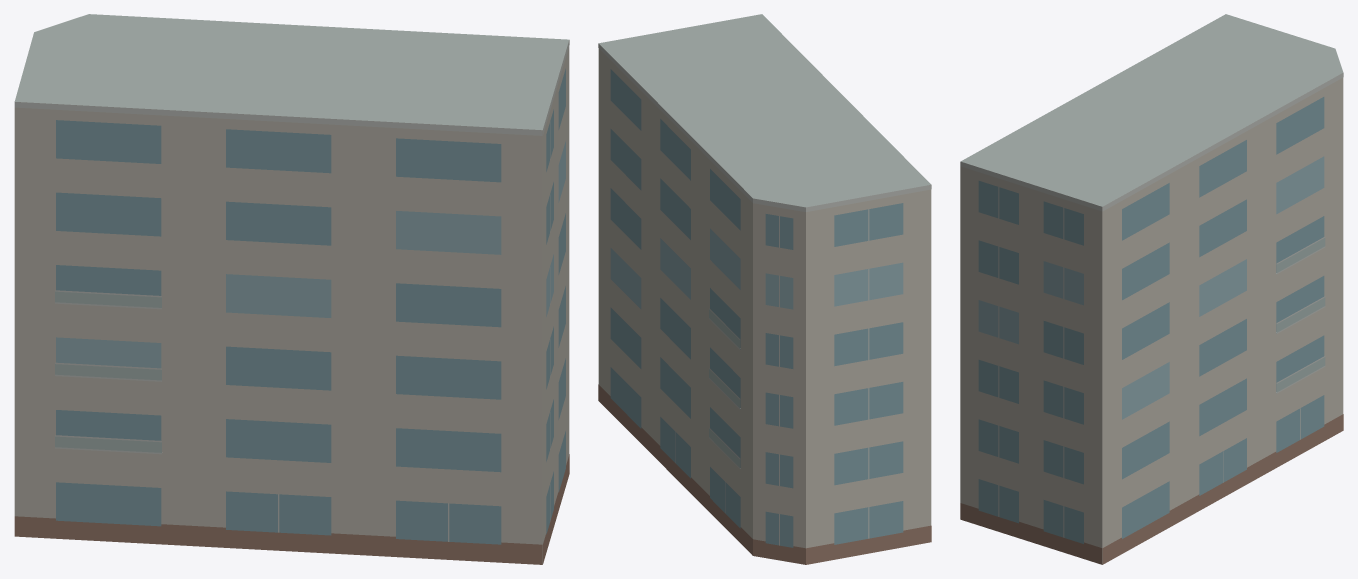
File: survey-upis-33042495.glb
The picture shows the model from 3 angles, left to right: view 1: azimuth 30°, elevation 25°; view 2: azimuth 150°, elevation 25°; view 3: azimuth 270°, elevation 25°; orthographic projection. The views are drawn at different scales.
Parts seen in each view (by area): view 1: survey-upis-33042495.tmp; view 2: survey-upis-33042495.tmp; view 3: survey-upis-33042495.tmp.
Boxes of the visible parts, x1,y1,x2,y2 form: survey-upis-33042495.tmp: (14,14,569,564); survey-upis-33042495.tmp: (598,14,931,564); survey-upis-33042495.tmp: (960,14,1343,564).
Bounding box in the file's own units: 21.15 × 18.3 × 17.75.
